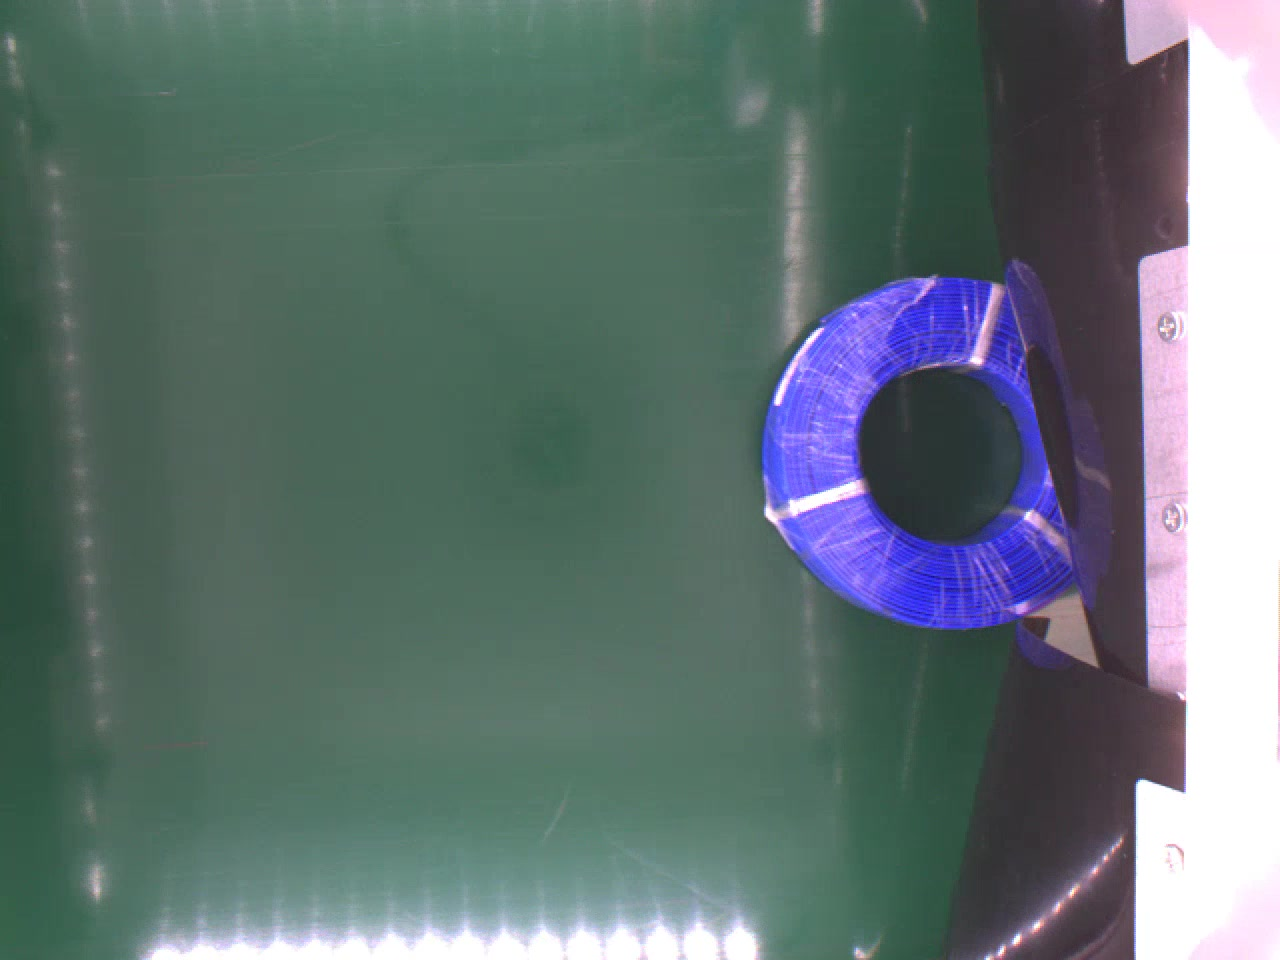blue: (755, 268, 1077, 626)
